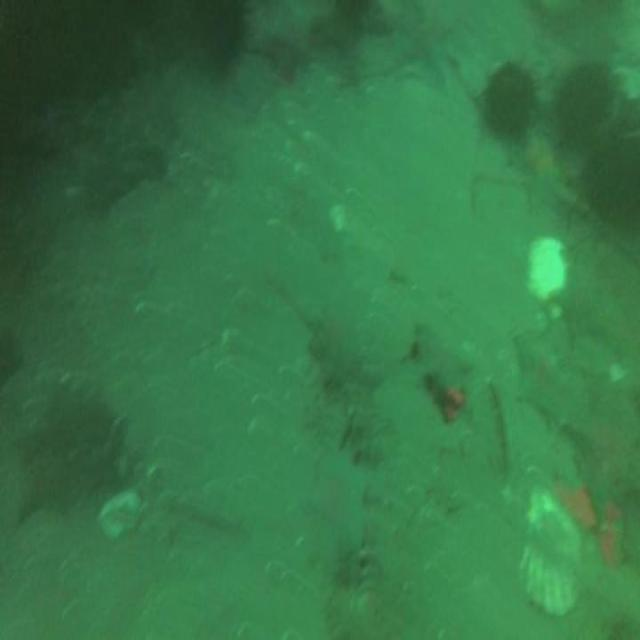echinus: (584, 134, 640, 229), (555, 61, 609, 146), (194, 0, 247, 81), (486, 62, 532, 144)
scallop: (518, 486, 580, 614), (96, 491, 146, 539)
